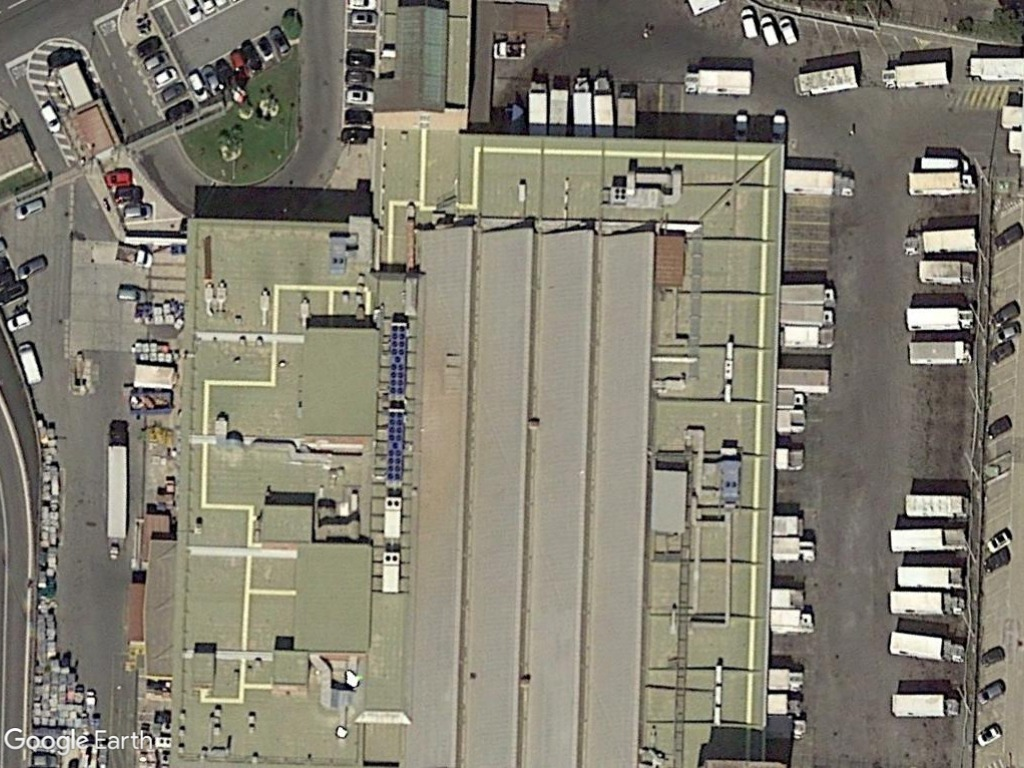car: (11, 193, 50, 224), (34, 100, 64, 136), (15, 255, 49, 281), (113, 284, 151, 306), (120, 200, 156, 223), (342, 86, 378, 106)
longvehicle: (104, 418, 132, 544)
other: (488, 36, 530, 62)
truck: (881, 628, 968, 666), (883, 520, 969, 557), (783, 164, 859, 201), (878, 57, 953, 93), (788, 62, 862, 98), (900, 300, 977, 334), (899, 223, 978, 256), (883, 589, 969, 619), (680, 64, 755, 98), (898, 488, 973, 521), (890, 560, 968, 591), (887, 689, 964, 720), (904, 168, 978, 200), (902, 336, 976, 368), (913, 259, 976, 288), (568, 71, 593, 140), (591, 72, 615, 141), (525, 74, 549, 136), (614, 81, 638, 137)
van: (13, 341, 45, 387), (756, 10, 780, 49), (736, 5, 758, 43), (776, 15, 800, 48)
